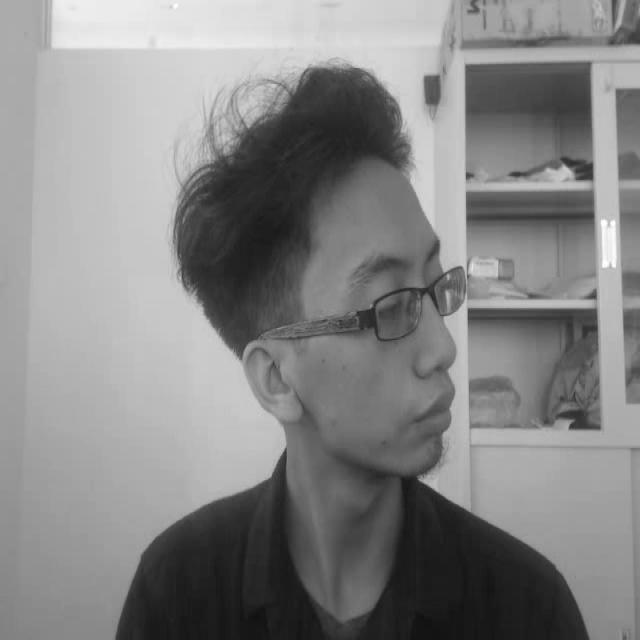real: (156, 40, 474, 485)
